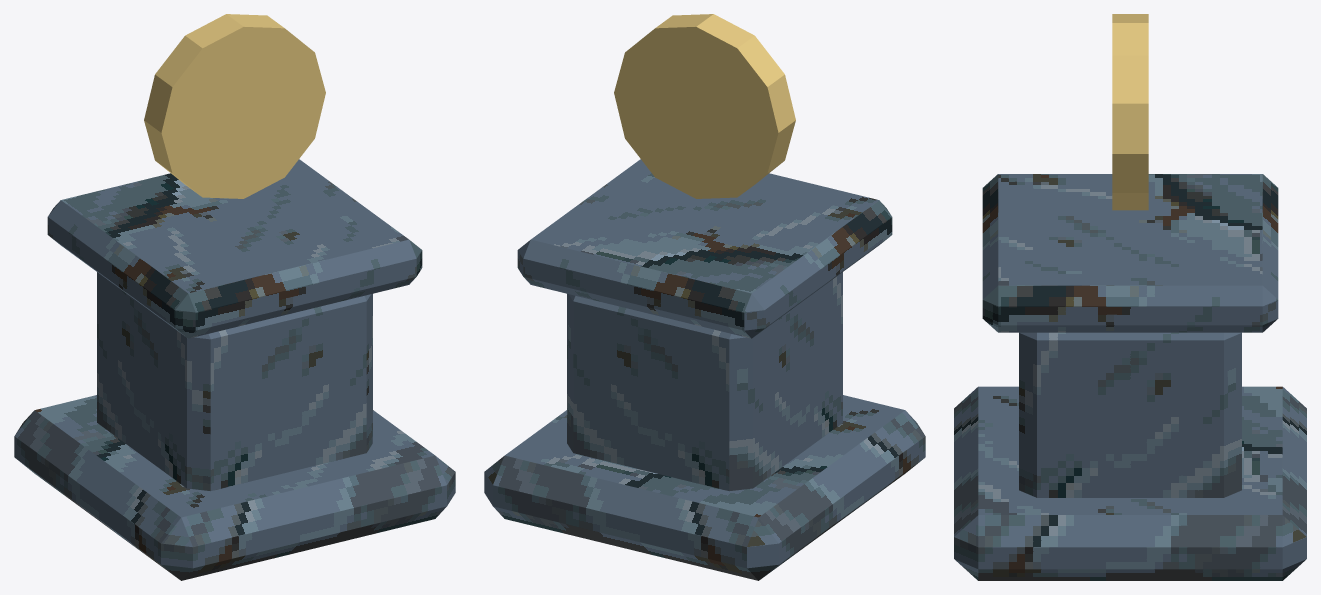
Rendered from pilar_galeao.glb.
3 renders of one model, left to right at view 1: azimuth 30°, elevation 25°; view 2: azimuth 150°, elevation 25°; view 3: azimuth 270°, elevation 25°, orthographic. The views are drawn at different scales.
Parts seen in each view (by area): view 1: pedreira_pilar_galeao; view 2: pedreira_pilar_galeao; view 3: pedreira_pilar_galeao.
Part boxes in pixels (box(x1,y1,x2,y2)): pedreira_pilar_galeao: box(14, 14, 455, 580); pedreira_pilar_galeao: box(484, 14, 925, 580); pedreira_pilar_galeao: box(954, 14, 1306, 580).
Size of the model in its own units: 0.68 by 1.05 by 0.68.
Materials: 2 (1 with a texture image).
